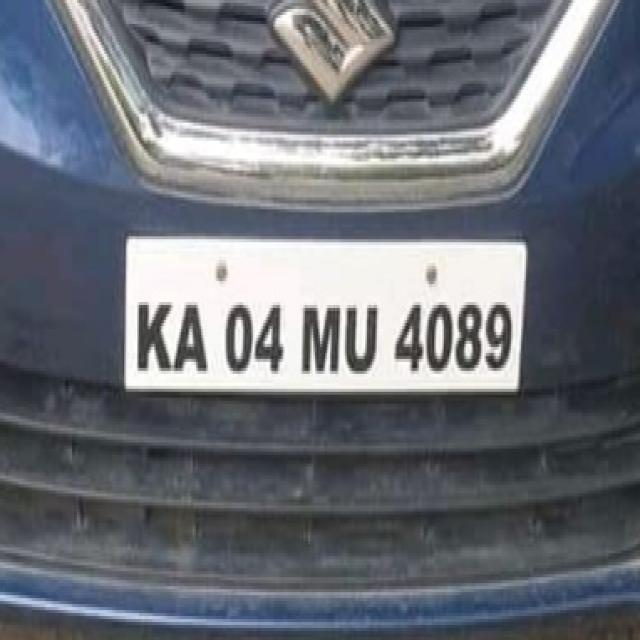0: (222, 296, 256, 380), (426, 295, 454, 387)
4: (390, 297, 427, 382), (255, 289, 290, 376)
8: (454, 296, 482, 386)
9: (484, 300, 514, 376)
A: (173, 291, 211, 378)
K: (132, 285, 174, 380)
M: (297, 292, 342, 382)
U: (342, 290, 382, 384)
